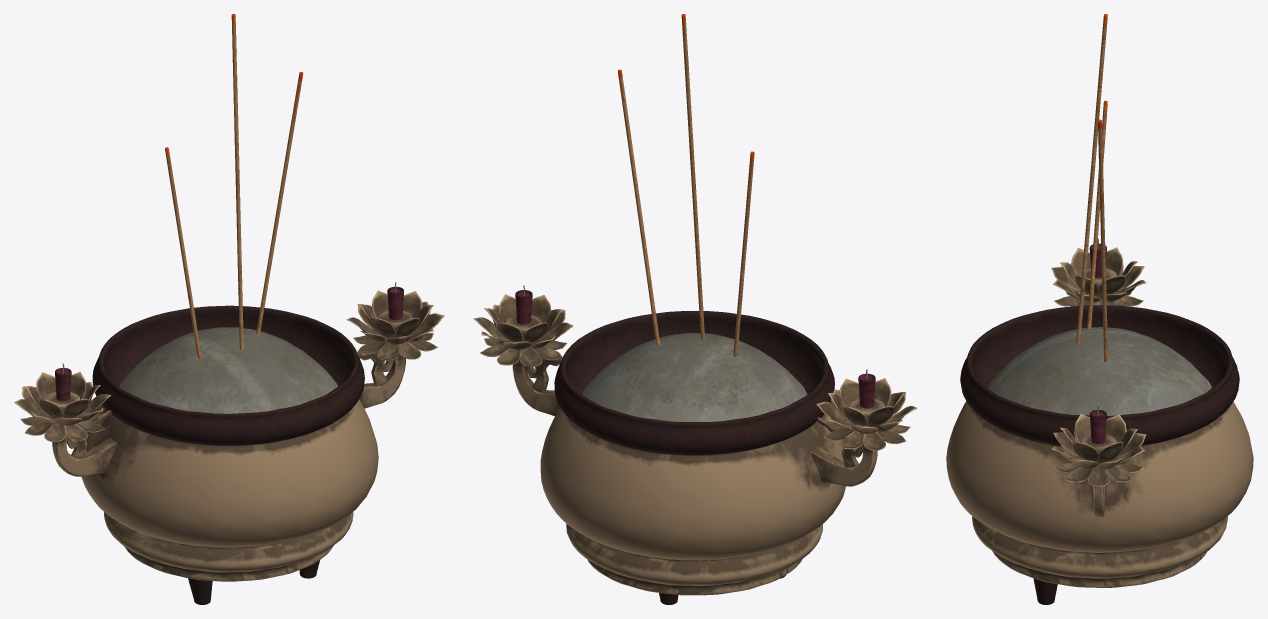
Rendered from burner.fbx.
3 views of the same model, side by side, from view 1: azimuth 30°, elevation 25°; view 2: azimuth 150°, elevation 25°; view 3: azimuth 270°, elevation 25° (orthographic). The views are drawn at different scales.
Visible parts, largest first — view 1: luzi_low; view 2: luzi_low; view 3: luzi_low.
Part boxes in pixels (<box>): luzi_low: <box>14,14,444,604</box>; luzi_low: <box>473,14,917,604</box>; luzi_low: <box>946,14,1253,604</box>.
Size of the model in its own units: 677 by 863 by 426.
